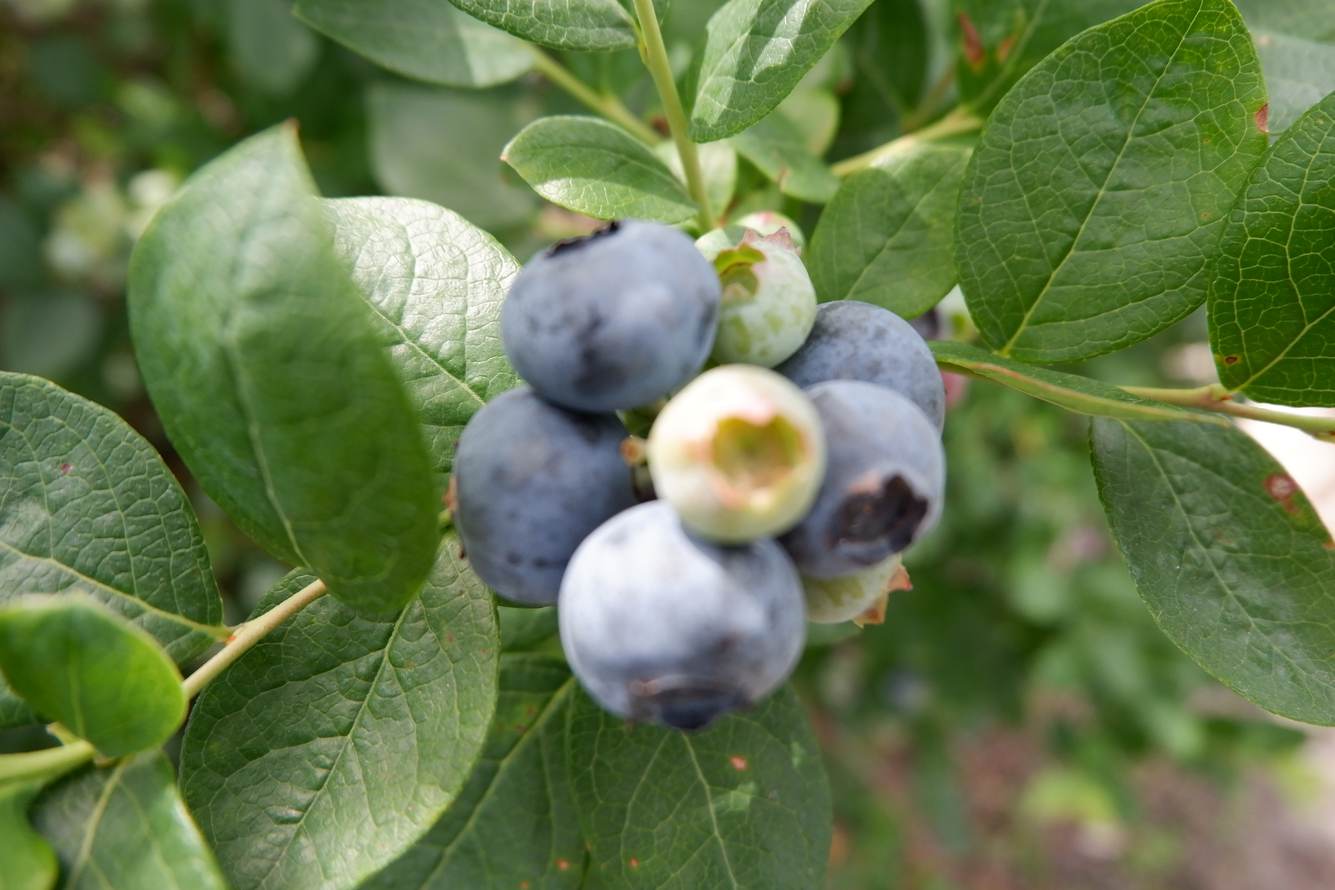Immature: (779, 382, 943, 579), (650, 370, 820, 538), (711, 242, 813, 368), (803, 557, 908, 624)
Mature: (561, 511, 803, 729), (501, 224, 718, 407), (455, 392, 639, 600), (779, 303, 945, 432)
